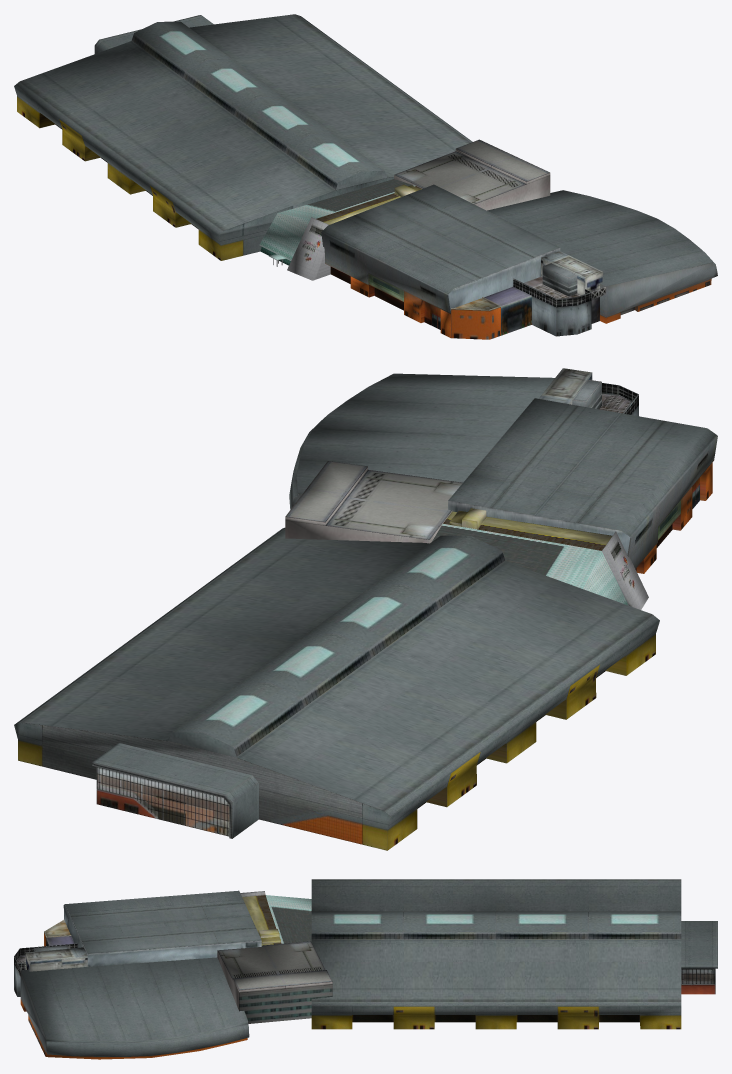
The model's file is AsiaWorld-Expo_HighLOD.dae.
The picture shows the model from 3 angles, top to bottom: view 1: azimuth 30°, elevation 25°; view 2: azimuth 150°, elevation 25°; view 3: azimuth 270°, elevation 25°; orthographic projection. The views are drawn at different scales.
Parts seen in each view (by area): view 1: AsiaWorld_Expo; view 2: AsiaWorld_Expo; view 3: AsiaWorld_Expo.
Part boxes in pixels (box(x1,y1,x2,y2)): AsiaWorld_Expo: box(14, 14, 717, 339); AsiaWorld_Expo: box(14, 368, 717, 850); AsiaWorld_Expo: box(14, 879, 717, 1059).
Bounding box in the file's own units: 33.11 × 61.96 × 4.92.
Materials: 1 (1 with a texture image).
